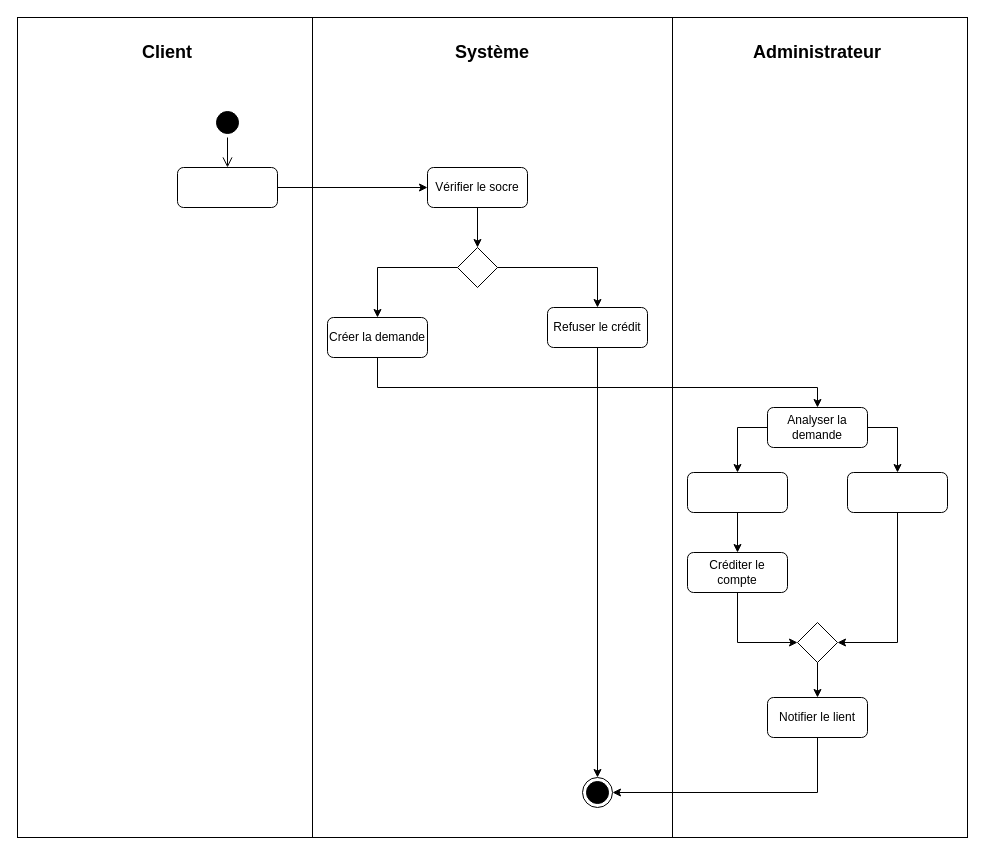
Image size: 985x855. Some labels were removed from this diagram. Each missing label, with the box of its shape:
Appouver: (686, 472, 788, 512)
Rejeter: (846, 472, 948, 512)
Remplir le formulaire: (176, 166, 278, 208)
